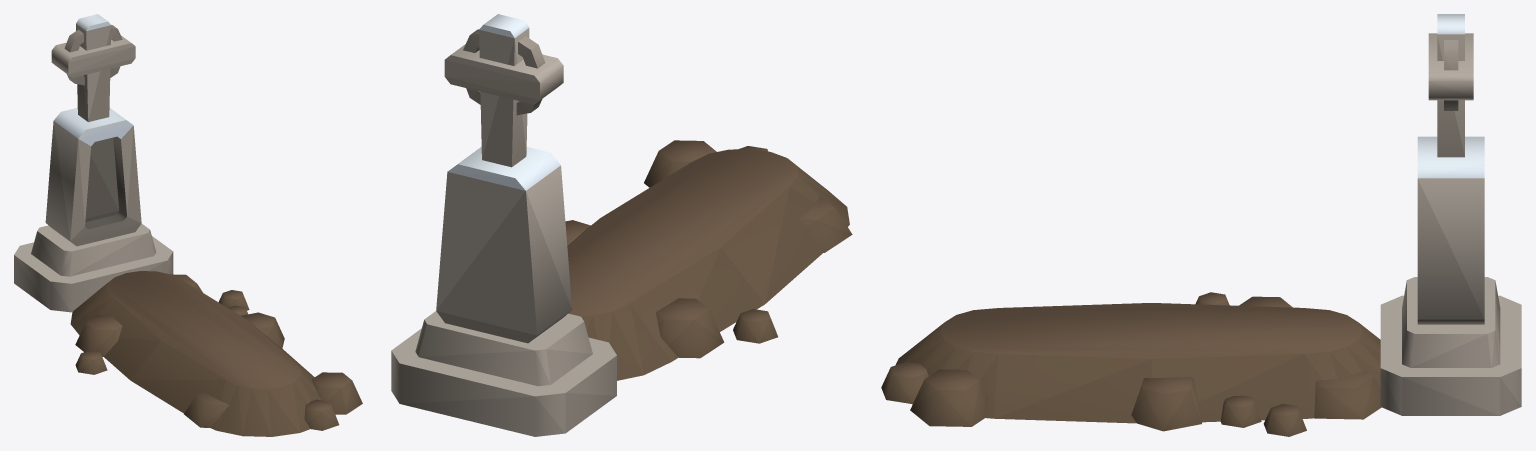
The model's file is kenney_graveyard_grave_gravestone_cross.glb.
The picture shows the model from 3 angles, left to right: view 1: azimuth 30°, elevation 25°; view 2: azimuth 150°, elevation 25°; view 3: azimuth 270°, elevation 25°; orthographic projection. The views are drawn at different scales.
Visible parts, largest first — view 1: stone (×2), cloth; view 2: stone (×2), cloth; view 3: stone (×2), cloth.
Part boxes in pixels (x1,y1,x2,y2): stone (×2): (14, 24, 362, 436); cloth: (53, 14, 133, 145); stone (×2): (391, 28, 852, 436); cloth: (447, 14, 560, 190); stone (×2): (881, 33, 1521, 436); cloth: (1417, 14, 1484, 178).
Bounding box in the file's own units: 0.7238 × 0.915 × 1.5.
